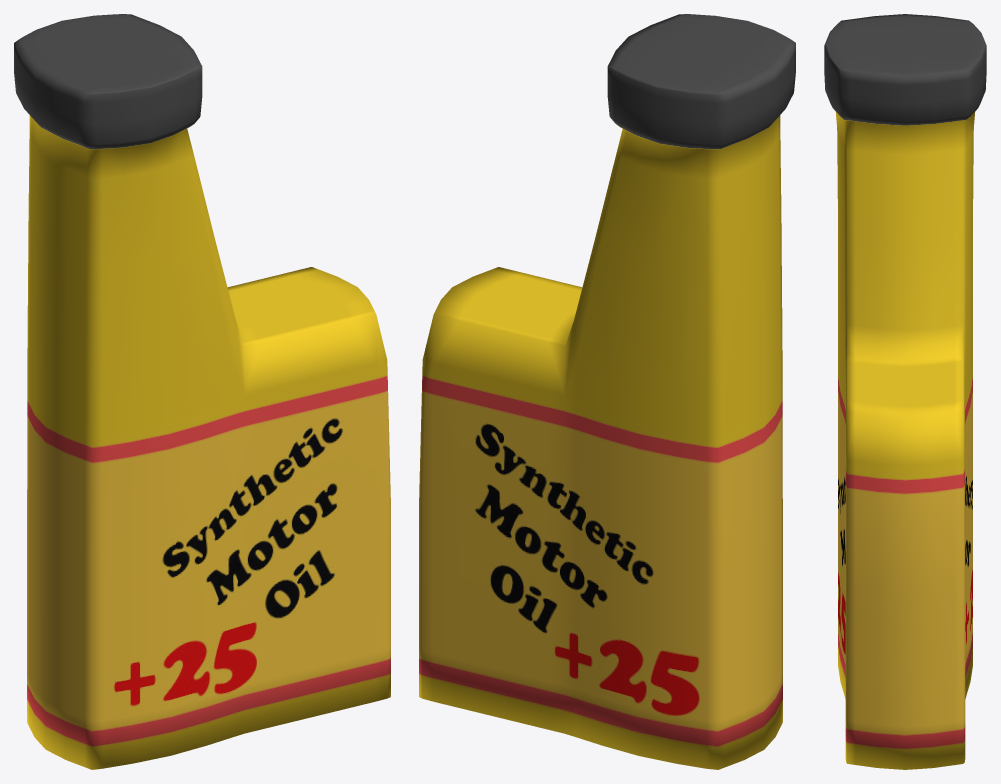
The model's file is motoroil.fbx.
3 views of the same model, side by side, from view 1: azimuth 30°, elevation 25°; view 2: azimuth 150°, elevation 25°; view 3: azimuth 270°, elevation 25° (orthographic). The views are drawn at different scales.
Parts seen in each view (by area): view 1: pCube1; view 2: pCube1; view 3: pCube1.
Boxes of the visible parts, x1=… form: pCube1: x1=14, y1=14, x2=390, y2=769; pCube1: x1=419, y1=14, x2=795, y2=769; pCube1: x1=824, y1=14, x2=986, y2=769.
Bounding box in the file's own units: 54.94 × 106 × 25.55.
Materials: 1 (1 with a texture image).
